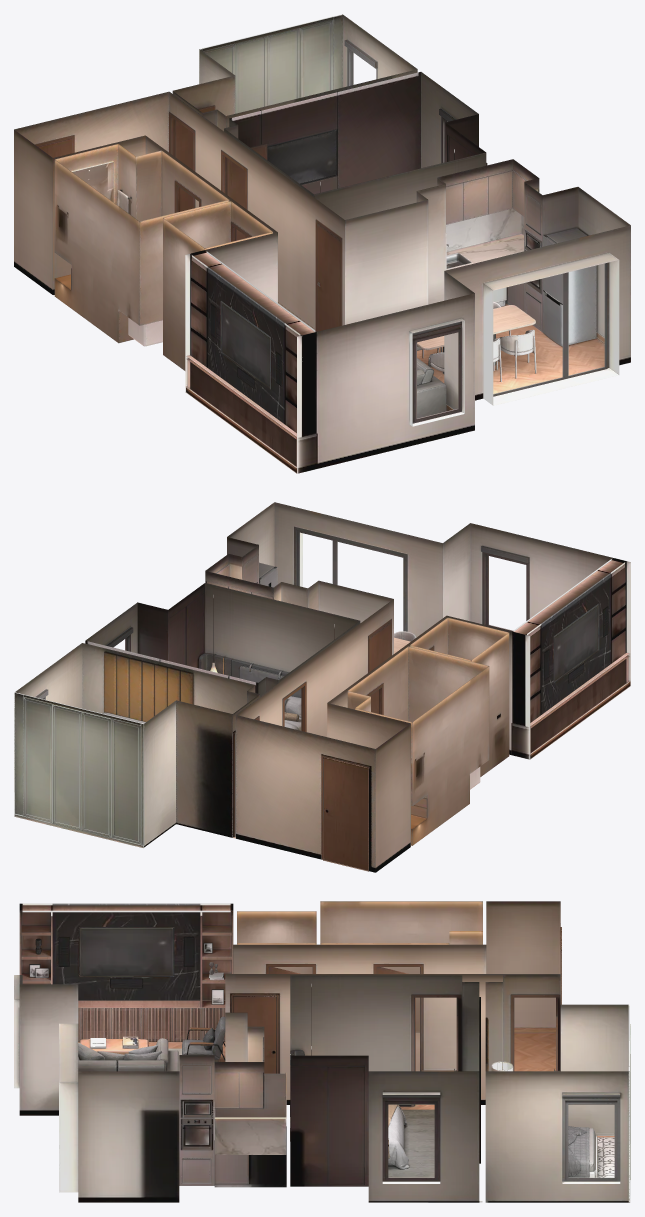
File: rest-room.glb
3 views of the same model, one above another, from view 1: azimuth 30°, elevation 25°; view 2: azimuth 150°, elevation 25°; view 3: azimuth 270°, elevation 25° (orthographic). The views are drawn at different scales.
Parts seen in each view (by area): view 1: Sala_Cozinha, Banheiros_Corredor, Quartos; view 2: Quartos, Banheiros_Corredor, Sala_Cozinha, Chambre01_Meuble_Lit; view 3: Sala_Cozinha, Quartos, Banheiros_Corredor, Chambre01_Meuble_Lit.
Boxes of the visible parts, x1=… form: Sala_Cozinha: x1=185, y1=159, x2=630, y2=473; Banheiros_Corredor: x1=14, y1=91, x2=344, y2=370; Quartos: x1=169, y1=14, x2=487, y2=240; Quartos: x1=14, y1=583, x2=360, y2=847; Banheiros_Corredor: x1=235, y1=599, x2=509, y2=872; Sala_Cozinha: x1=205, y1=502, x2=630, y2=759; Chambre01_Meuble_Lit: x1=284, y1=696, x2=301, y2=730; Sala_Cozinha: x1=14, y1=903, x2=286, y2=1202; Quartos: x1=290, y1=975, x2=630, y2=1202; Banheiros_Corredor: x1=225, y1=901, x2=561, y2=1104; Chambre01_Meuble_Lit: x1=388, y1=1104, x2=595, y2=1177.
Size of the model in its own units: 7.05 by 2.51 by 10.66.
4 materials, 4 textured.
